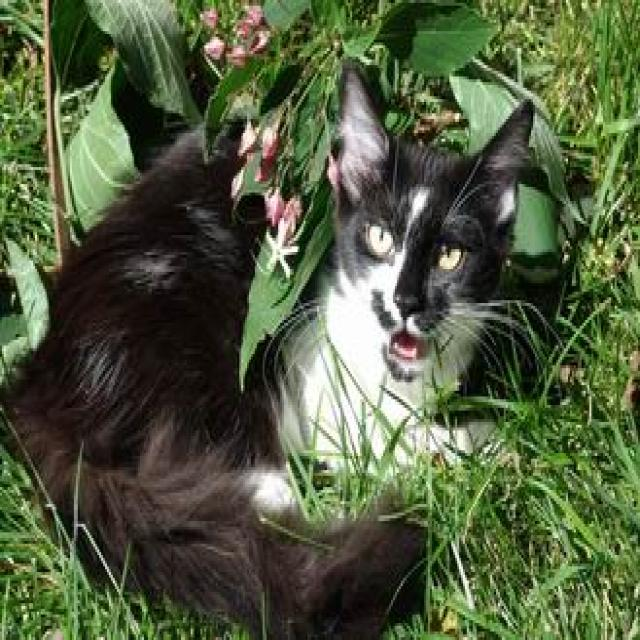cats: (3, 55, 533, 640)
